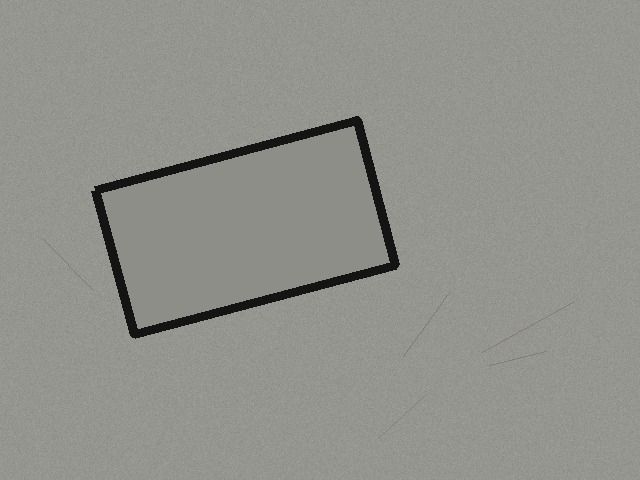parking_area: (95, 120, 395, 334)
